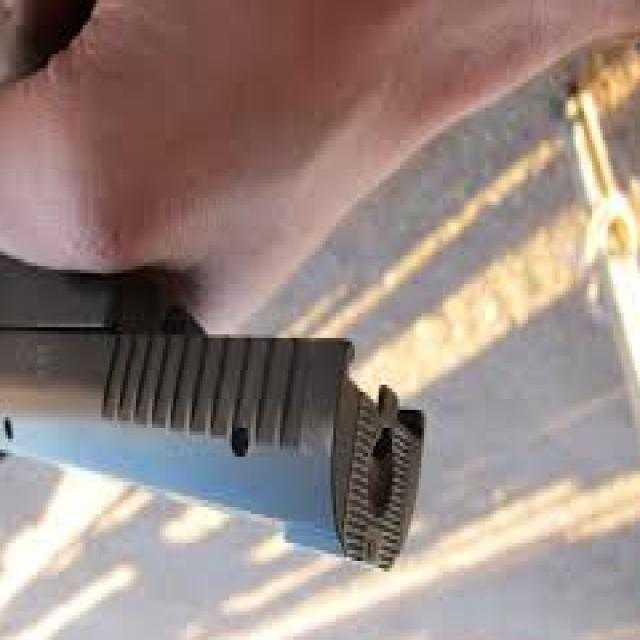Gun: (0, 0, 434, 576)
